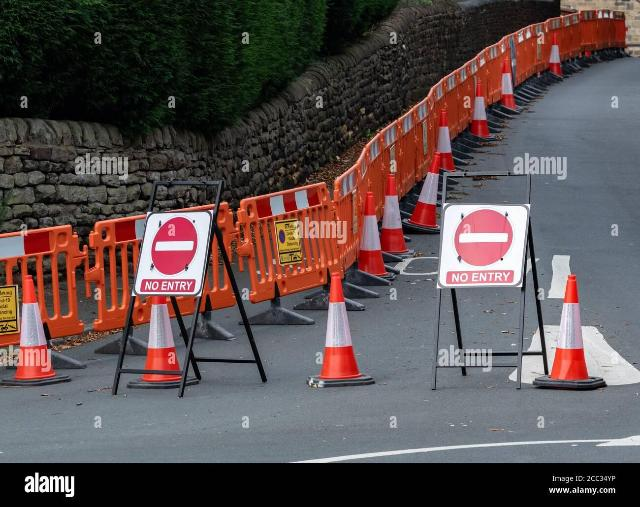B2: (452, 208, 512, 264), (156, 220, 197, 274)
